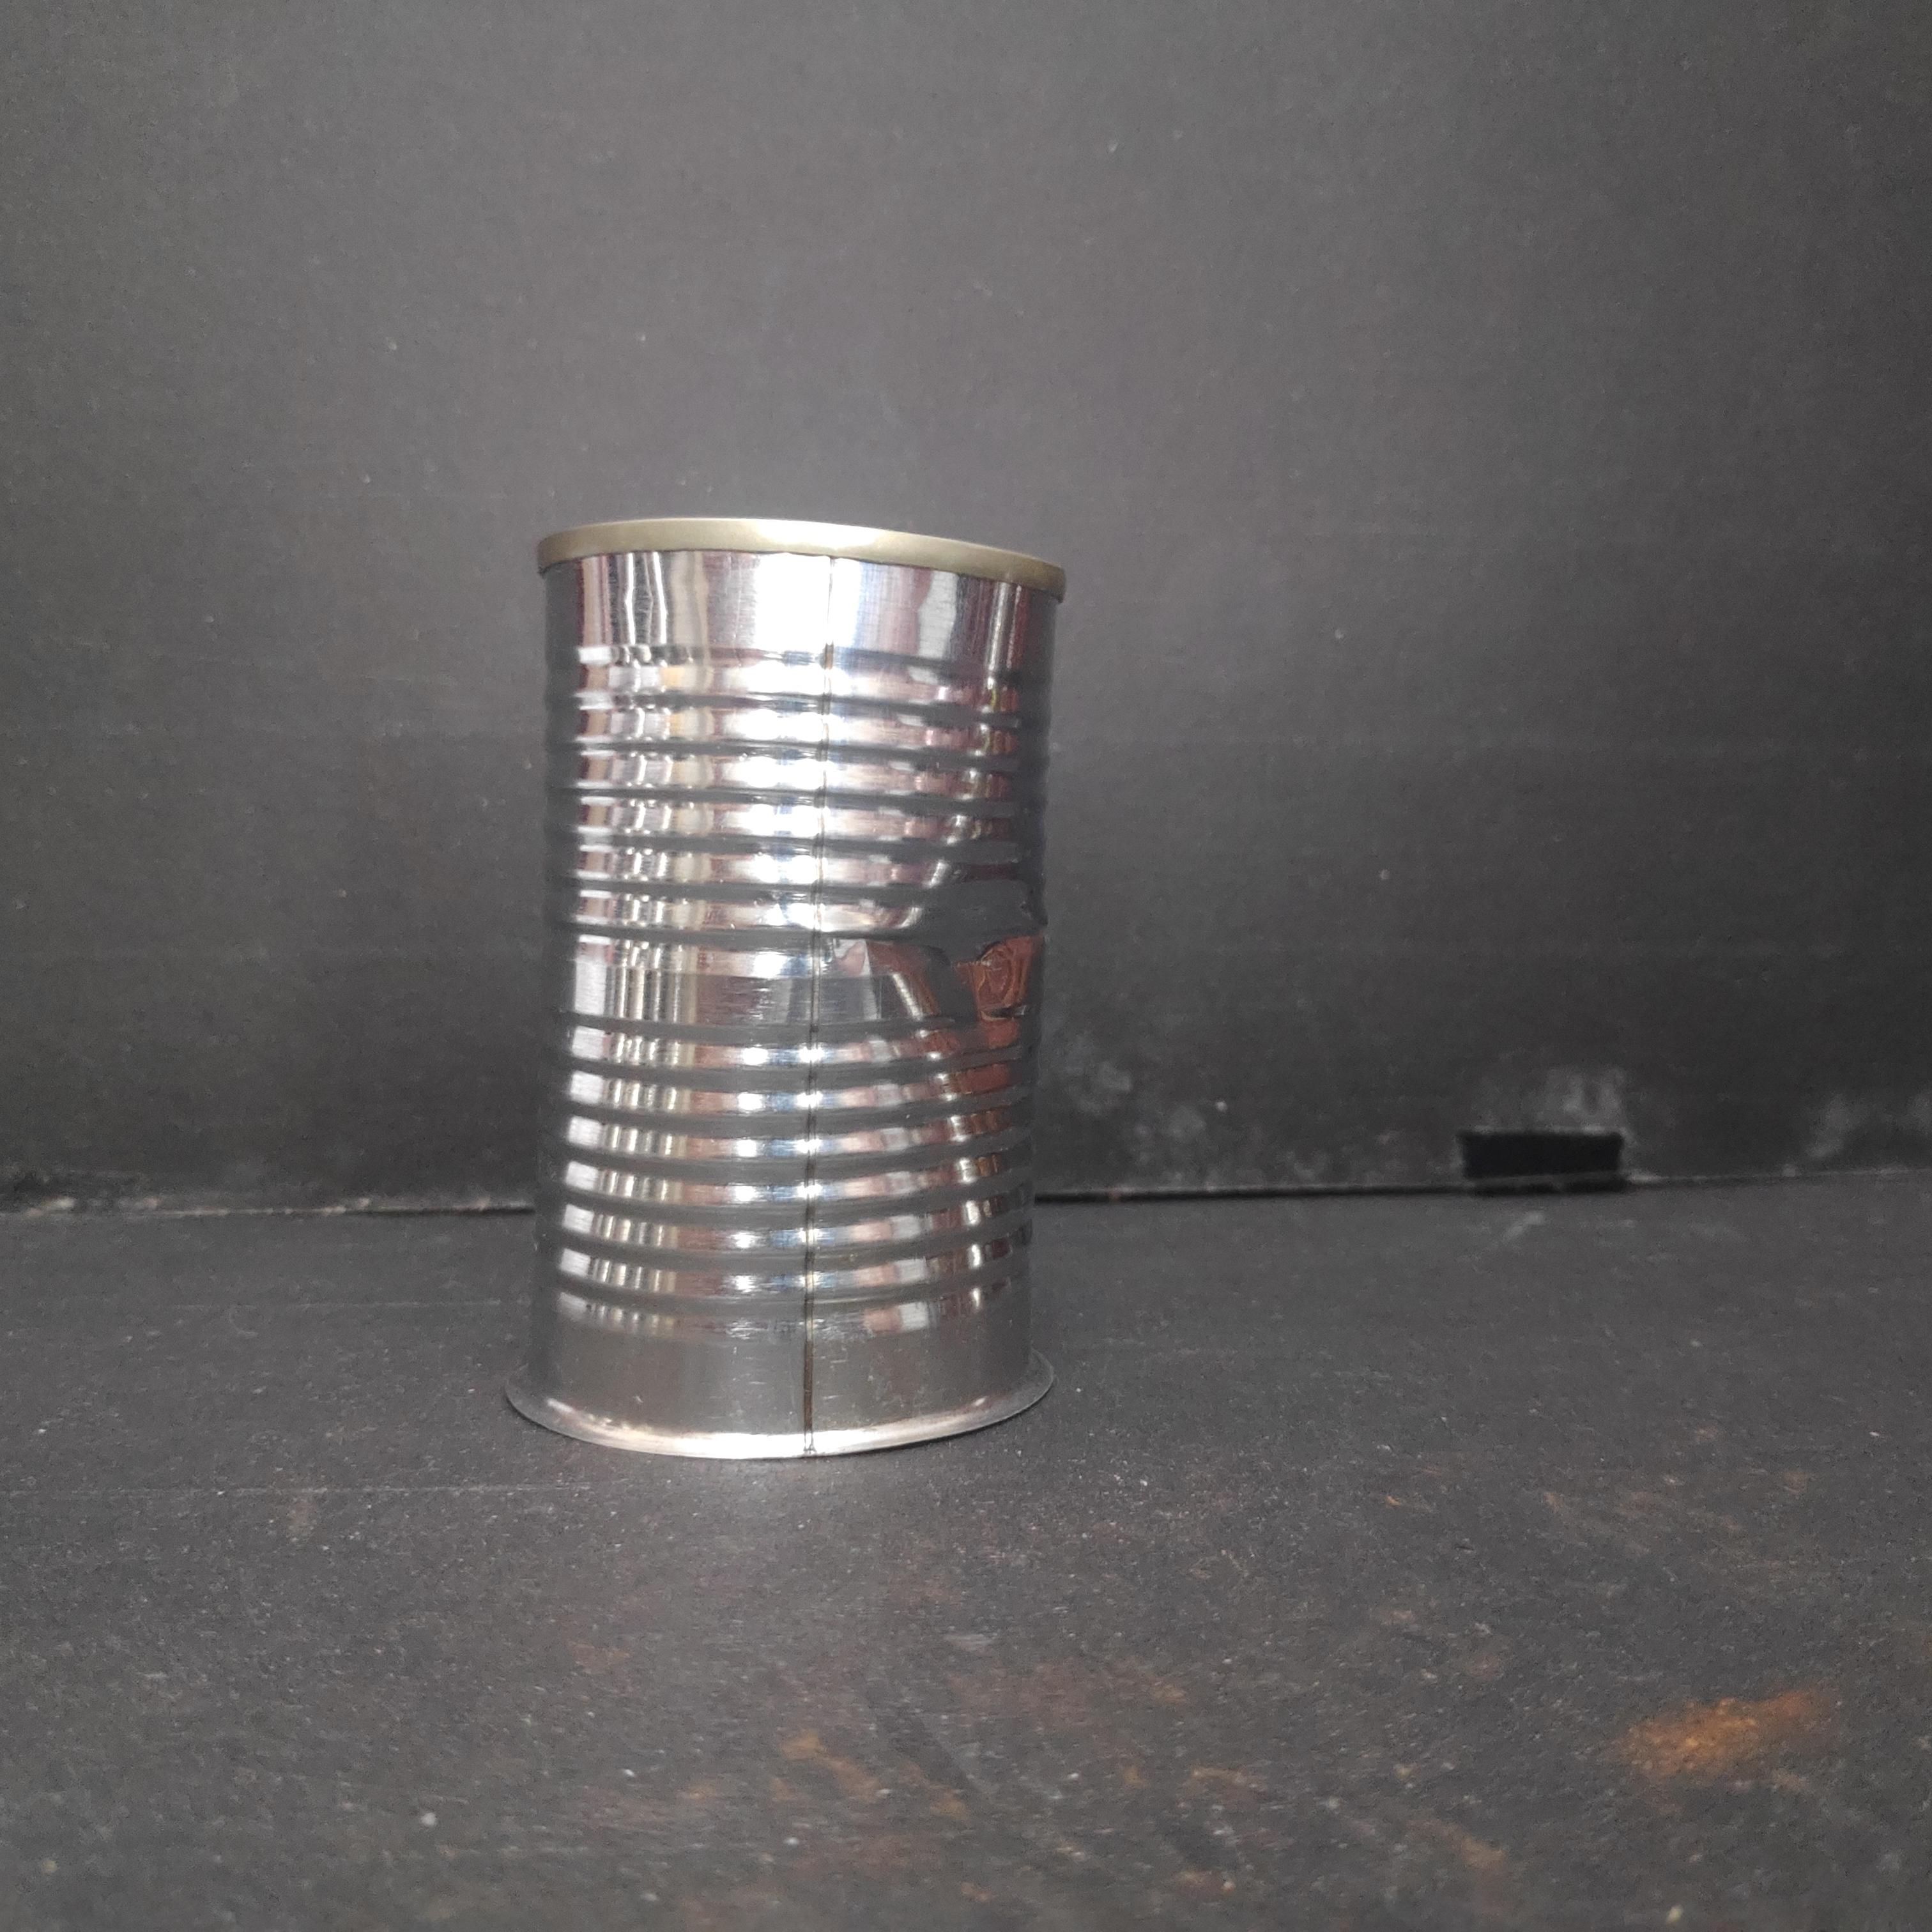Minor Defect: (522, 499, 1076, 1468)
